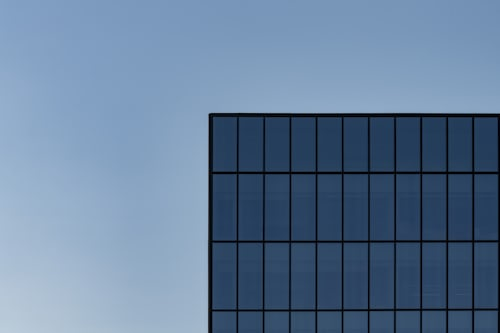glass_panel: (265, 174, 289, 239), (370, 175, 394, 240), (343, 243, 367, 308), (238, 174, 262, 239), (238, 243, 262, 308), (291, 174, 315, 239), (291, 243, 315, 308), (317, 243, 341, 308), (343, 174, 367, 239), (448, 243, 472, 308), (264, 243, 288, 308), (448, 175, 472, 240), (317, 175, 341, 239), (474, 175, 498, 239), (474, 243, 498, 307), (422, 243, 446, 307), (370, 243, 393, 308), (422, 174, 445, 239), (396, 174, 419, 239), (212, 243, 235, 308), (396, 243, 419, 308), (212, 175, 235, 239), (343, 117, 367, 170), (212, 117, 236, 170), (317, 117, 341, 170), (265, 117, 289, 170), (238, 117, 262, 170), (291, 117, 315, 170), (396, 117, 419, 170), (370, 117, 393, 170), (474, 117, 497, 170), (422, 117, 445, 170), (448, 117, 471, 170), (212, 312, 236, 333), (343, 311, 367, 332), (369, 311, 393, 332), (422, 311, 445, 332), (474, 311, 497, 332), (396, 311, 419, 332), (448, 311, 471, 332), (264, 312, 288, 332), (317, 312, 341, 332), (238, 312, 261, 332), (291, 312, 314, 332)
